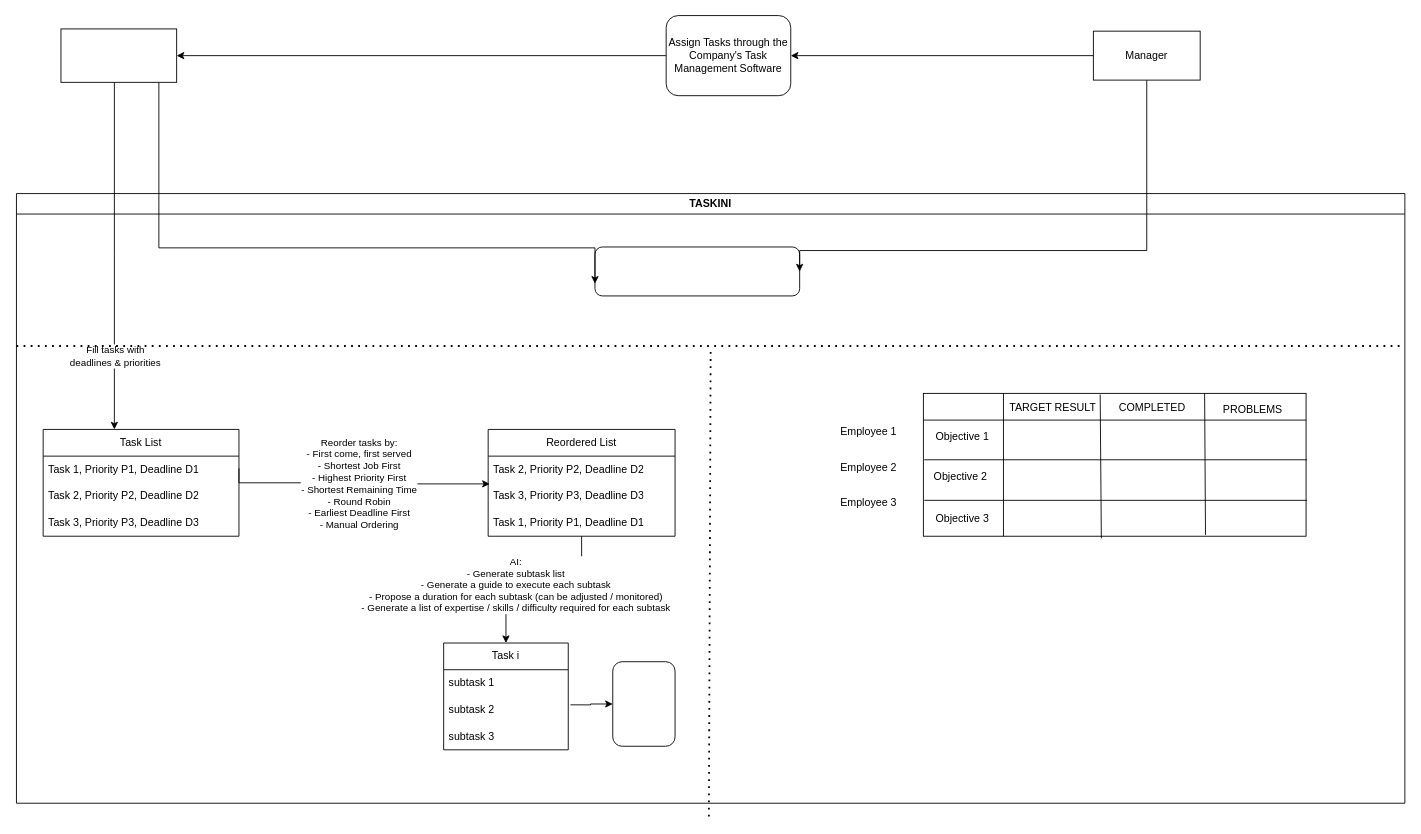
Image size: 1421x834. Some labels were removed from this diagram. Each missing label, with the centre of its shape:
Chatbot Assistant: the point at 643,703
Configure Workspace Options / Tools: the point at 697,271
Employee: the point at 118,55
